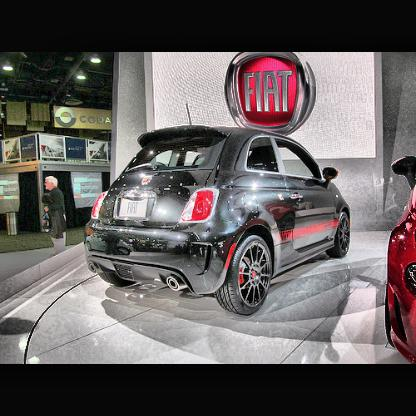FIAT 500 Abarth 2012: (86, 105, 353, 317)
